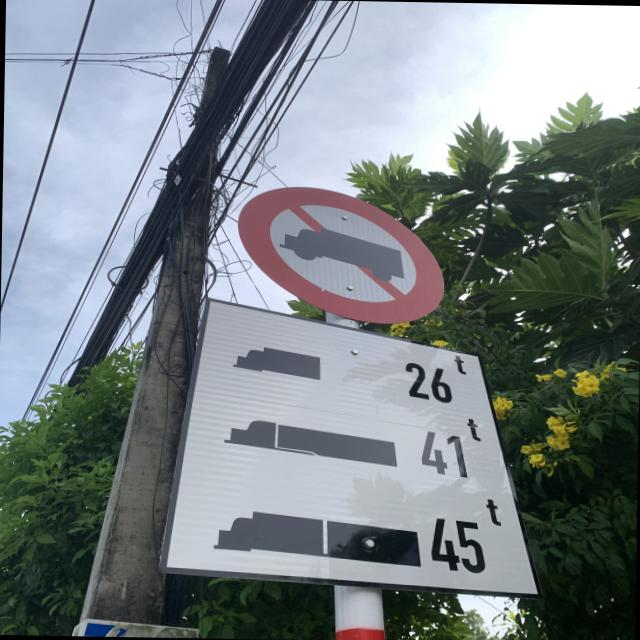Cam_Xe_Tai: (236, 183, 446, 325)
